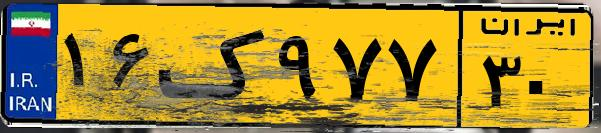0: (525, 38, 570, 115)
1: (57, 26, 110, 100)
3: (475, 38, 525, 113)
6: (110, 28, 158, 98)
7: (385, 28, 445, 110), (330, 28, 385, 110)
9: (270, 28, 330, 110)
ک: (158, 12, 270, 120)
